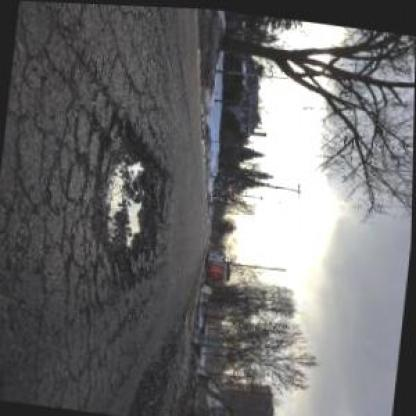pothole: (85, 116, 173, 272)
